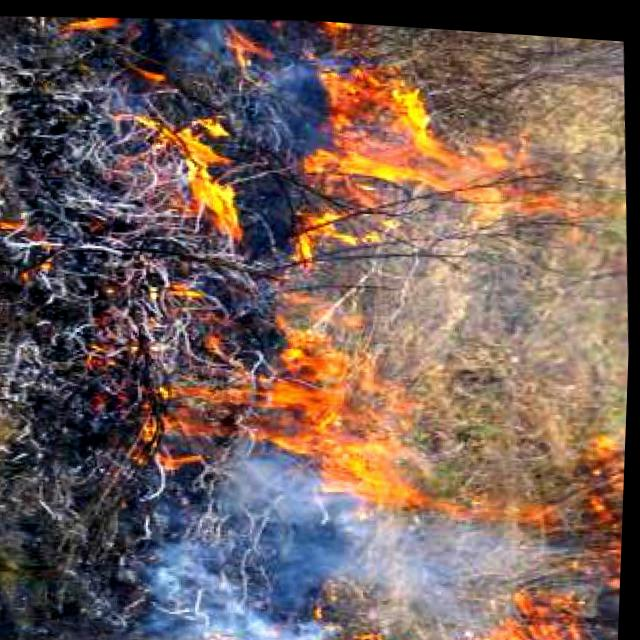Fire: (151, 309, 481, 529), (298, 51, 595, 249), (463, 416, 629, 640), (126, 97, 272, 238), (285, 198, 370, 281)
Smoke: (138, 433, 484, 640)
